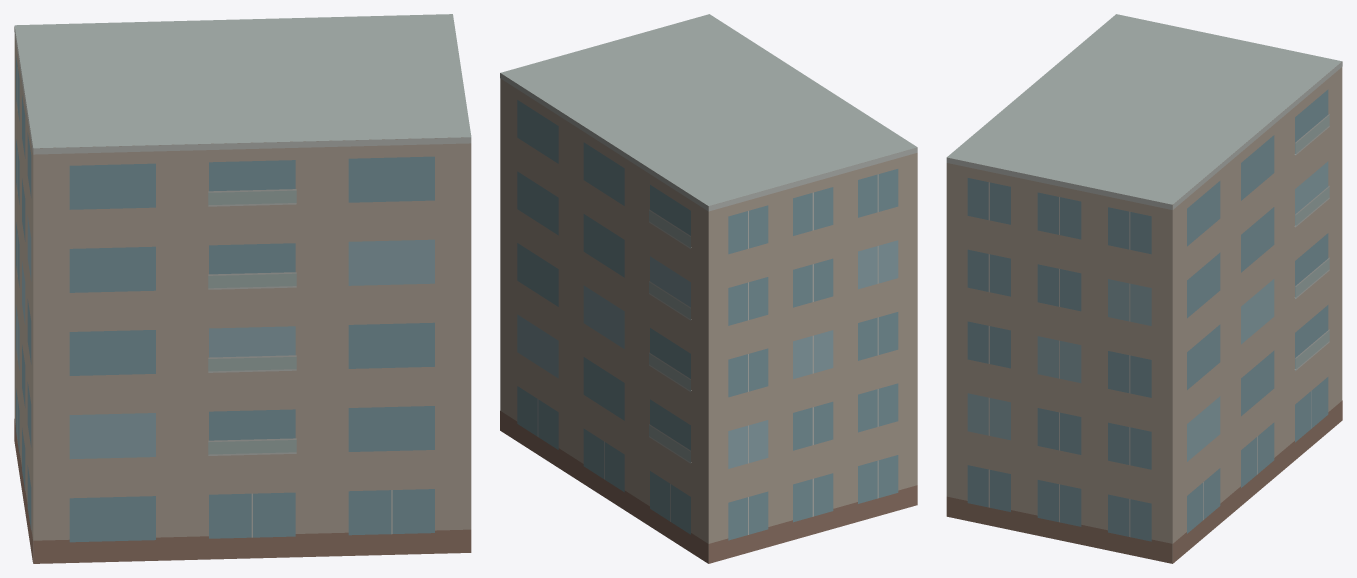
Rendered from survey-upis-32885016.glb.
3 views of the same model, side by side, from view 1: azimuth 30°, elevation 25°; view 2: azimuth 150°, elevation 25°; view 3: azimuth 270°, elevation 25° (orthographic). The views are drawn at different scales.
Visible parts, largest first — view 1: survey-upis-32885016.tmp; view 2: survey-upis-32885016.tmp; view 3: survey-upis-32885016.tmp.
Boxes of the visible parts, <box> form: survey-upis-32885016.tmp: <box>14,14,471,563</box>; survey-upis-32885016.tmp: <box>500,14,917,563</box>; survey-upis-32885016.tmp: <box>946,14,1342,563</box>.
Bounding box in the file's own units: 18.52 × 16.25 × 16.24.
